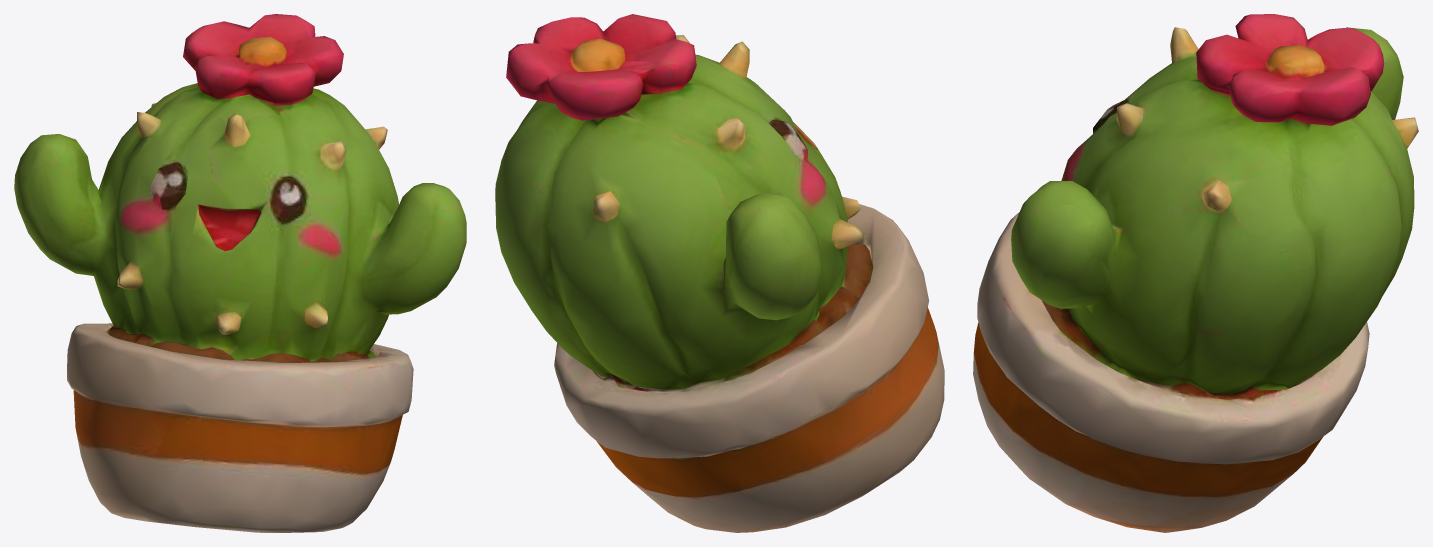
Rendered from cactus_pot.glb.
3 renders of one model, left to right at view 1: azimuth 30°, elevation 25°; view 2: azimuth 150°, elevation 25°; view 3: azimuth 270°, elevation 25°, orthographic. The views are drawn at different scales.
Parts seen in each view (by area): view 1: textured_mesh.obj; view 2: textured_mesh.obj; view 3: textured_mesh.obj.
Boxes of the visible parts, bbox=[...] form: textured_mesh.obj: bbox=[14, 14, 466, 532]; textured_mesh.obj: bbox=[495, 14, 944, 532]; textured_mesh.obj: bbox=[973, 14, 1418, 532].
Size of what is drawn, in the model's own units: 0.7115 by 0.9 by 0.7338.
Materials: 1 (1 with a texture image).
